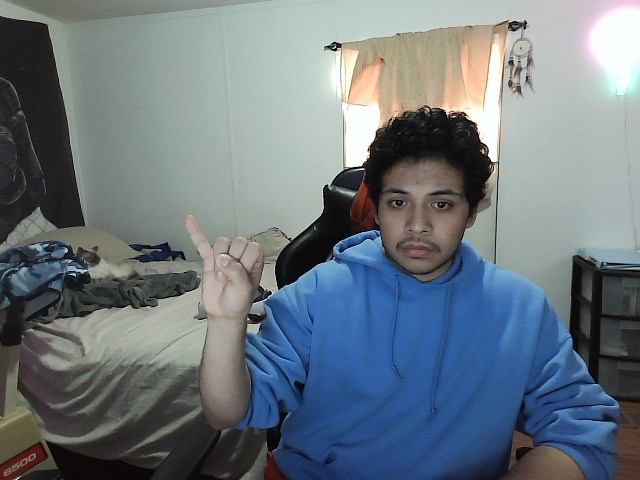I: (183, 205, 269, 322)
